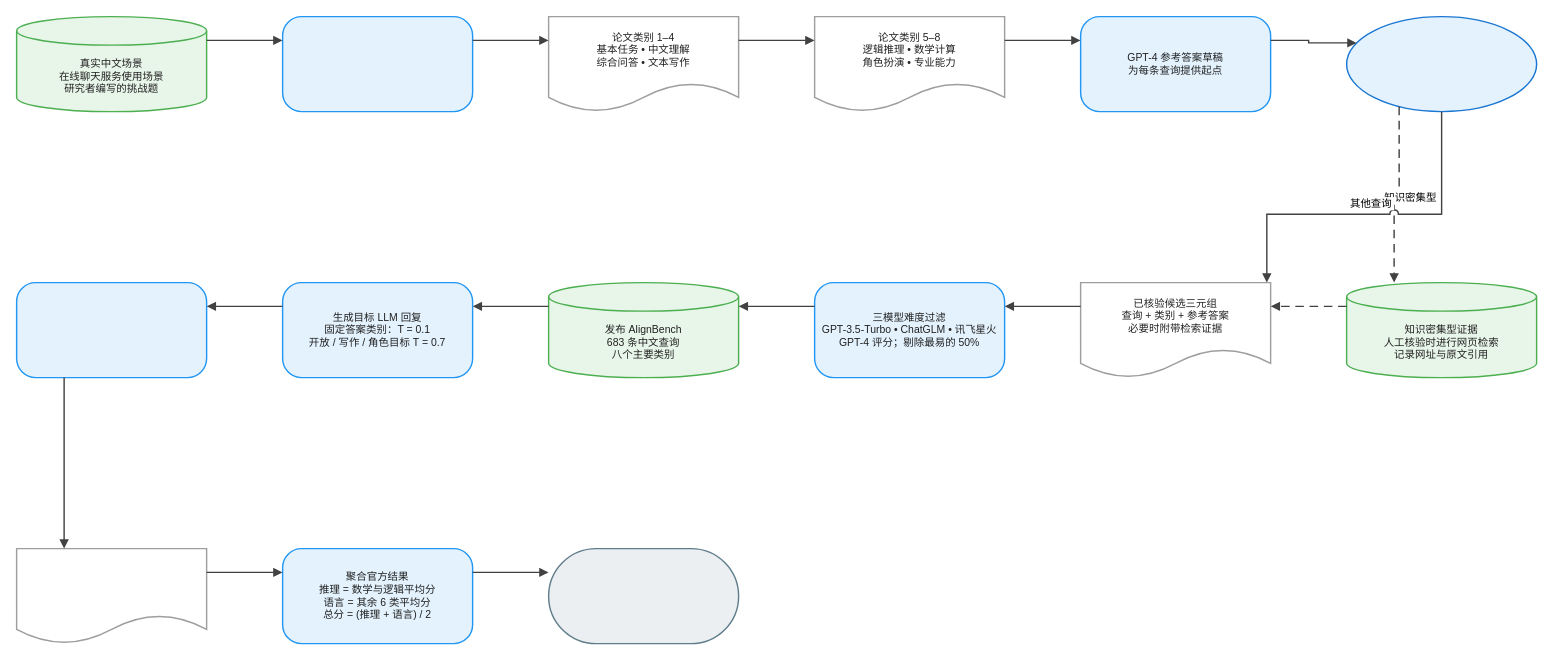
Some shapes in this 1554 by 661 pixel diagram are drawn without their labels. Each missing label, with the centre of its shape:
"AlignBench 结果 类别 • 推理 • 语言 1–10 分制总分" belongs at (643,595).
"人工核验参考答案 修订并完善草稿 检查正确性与质量" belongs at (1441,63).
"四条查询规则 任务导向 • 清晰流畅 困难复杂 • 脱敏处理" belongs at (377,63).
"固定 gpt-4-0613 点式评审 评审 T = 0.1 查询 + 参考答案 + 目标回复 任务特定维度 + 思维链" belongs at (111,329).
"解析末尾评分字典 提取各维度整数分 读取“综合得分”；正则回退" belongs at (111,595).
